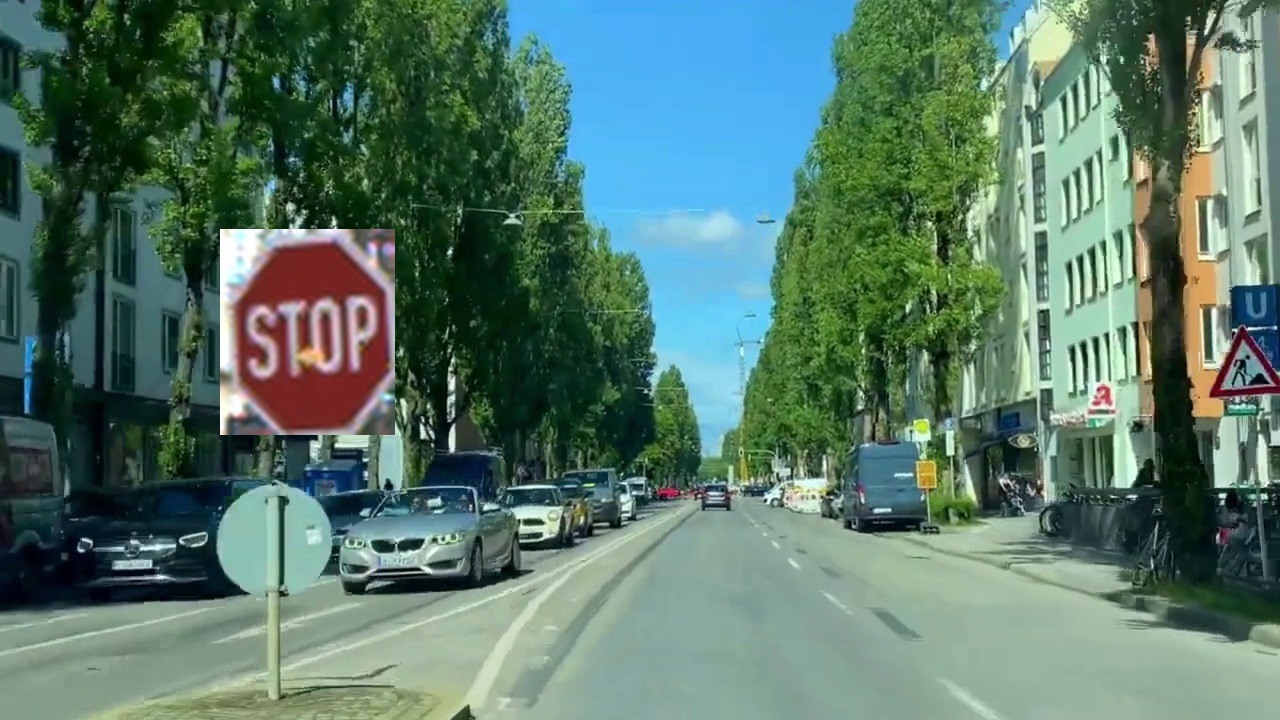Stop: (220, 229, 395, 435)
